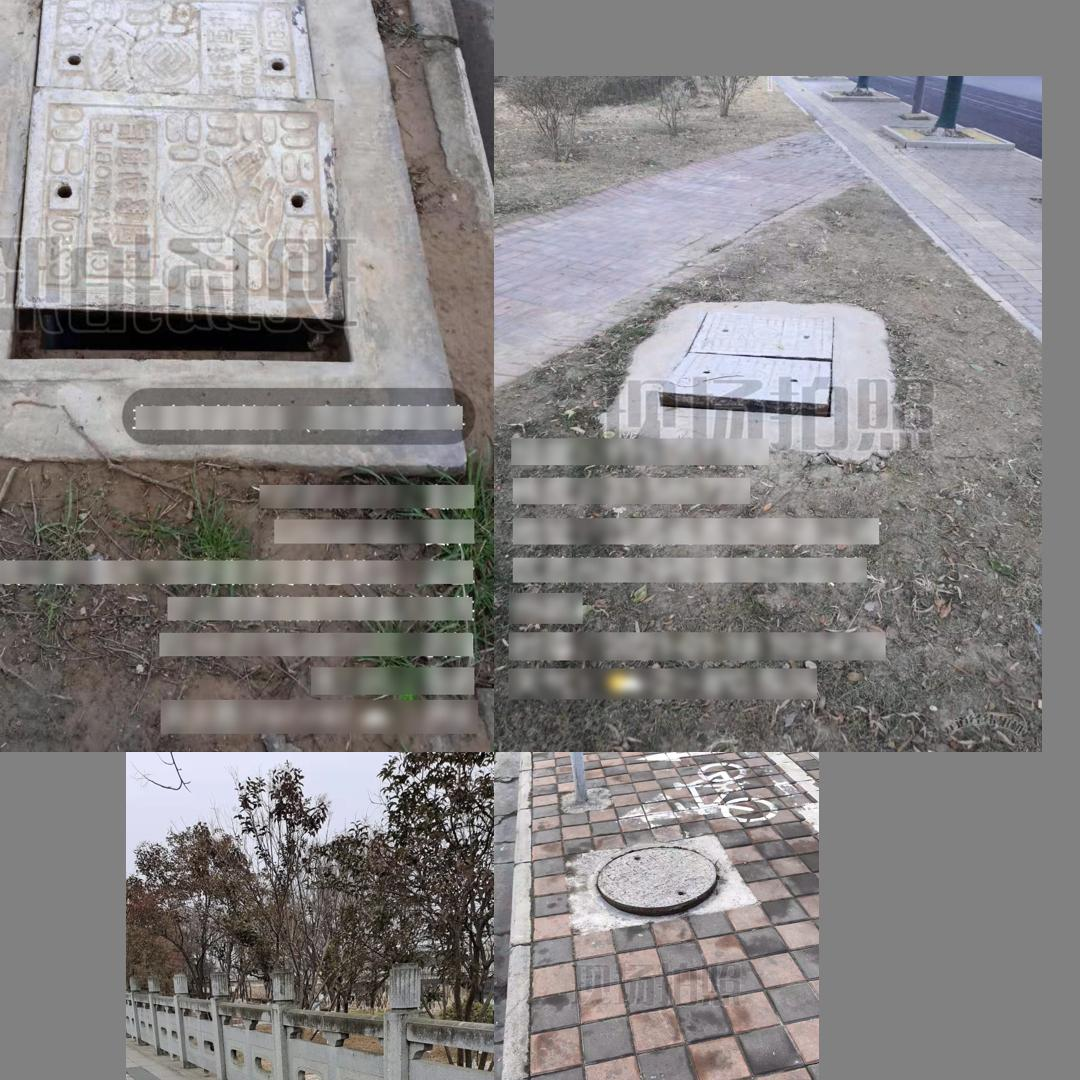uncovered: (0, 0, 354, 383), (657, 305, 841, 425), (589, 841, 724, 918)
